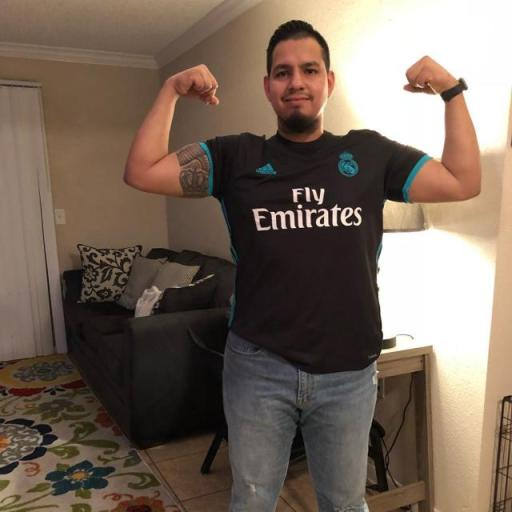Emirates: (250, 183, 364, 232)
